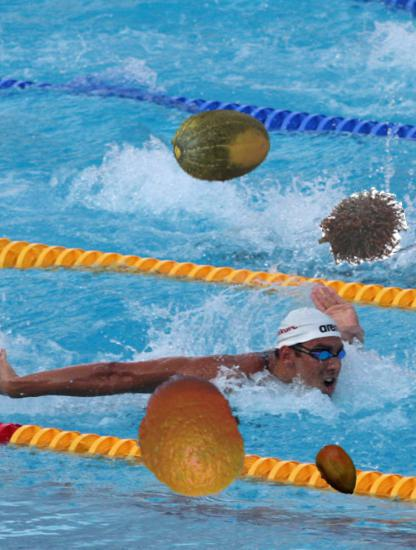Mandarine: (126, 374, 253, 501)
Melon: (171, 101, 271, 201)
Papaya: (310, 443, 365, 498)
Rambutan: (316, 182, 407, 273)
